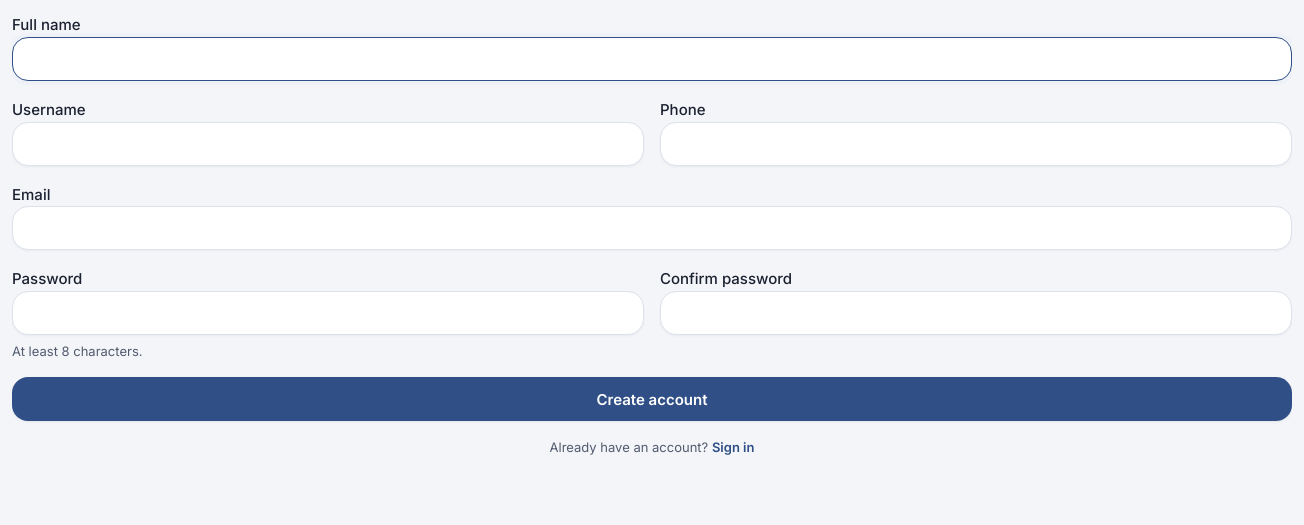
RegisterForm › checks that the passwords match
Step 1. Type "correct horse" into the password field labelled "Password" → (328, 313), box [12,291,644,335]
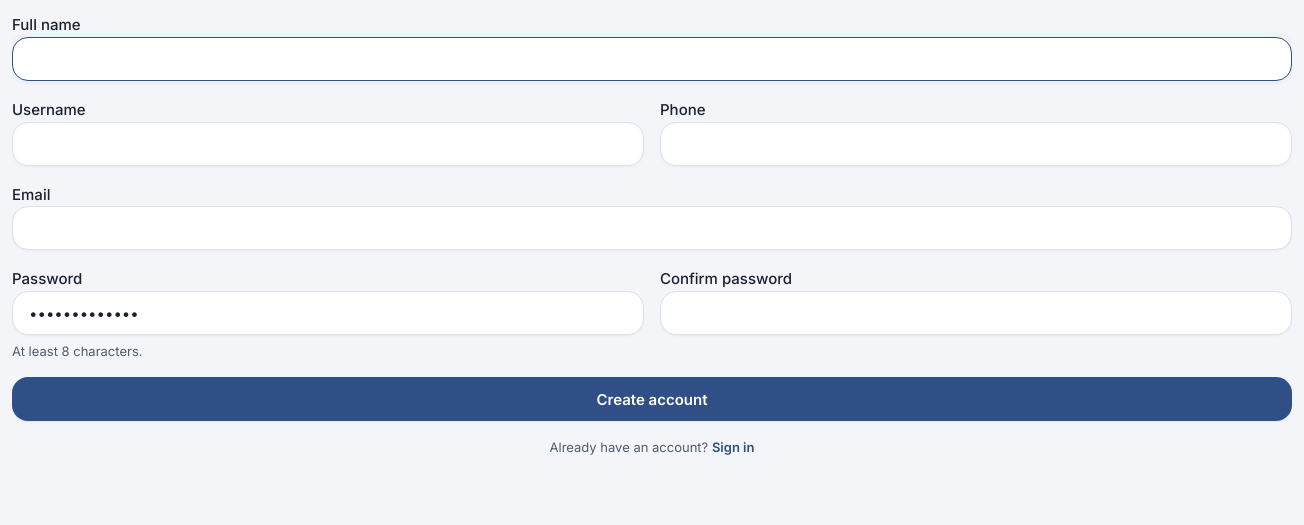
Step 2. Type "different" into the password field labelled "Confirm password" → (976, 313), box [660,291,1292,335]
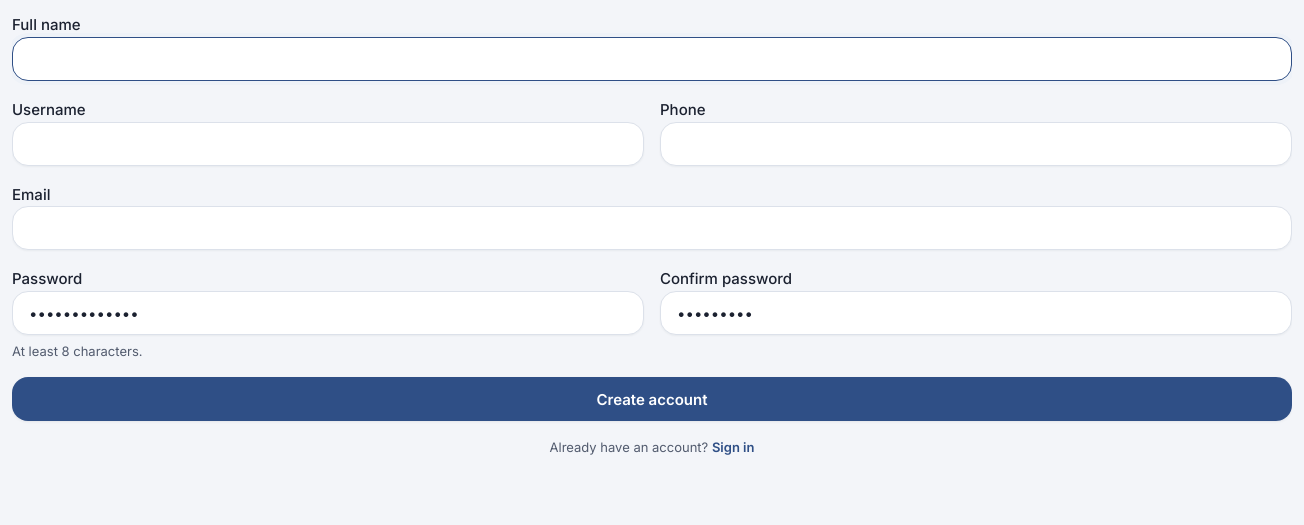
Step 3. Click the button "Create account" → (652, 399), box [12,377,1292,421]
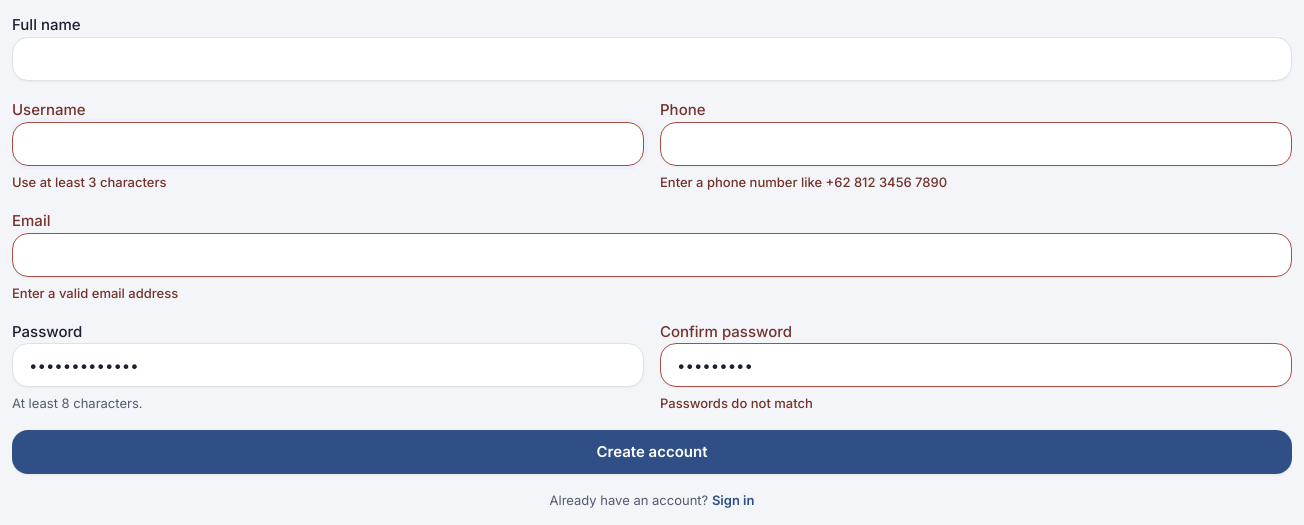
Expected: the text "Passwords do not match" is shown, [660,396,813,412]
